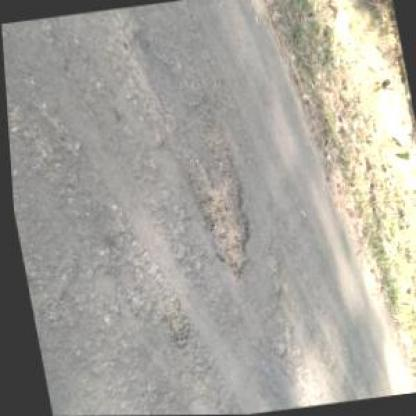pothole: (173, 107, 258, 283), (150, 298, 190, 352)
